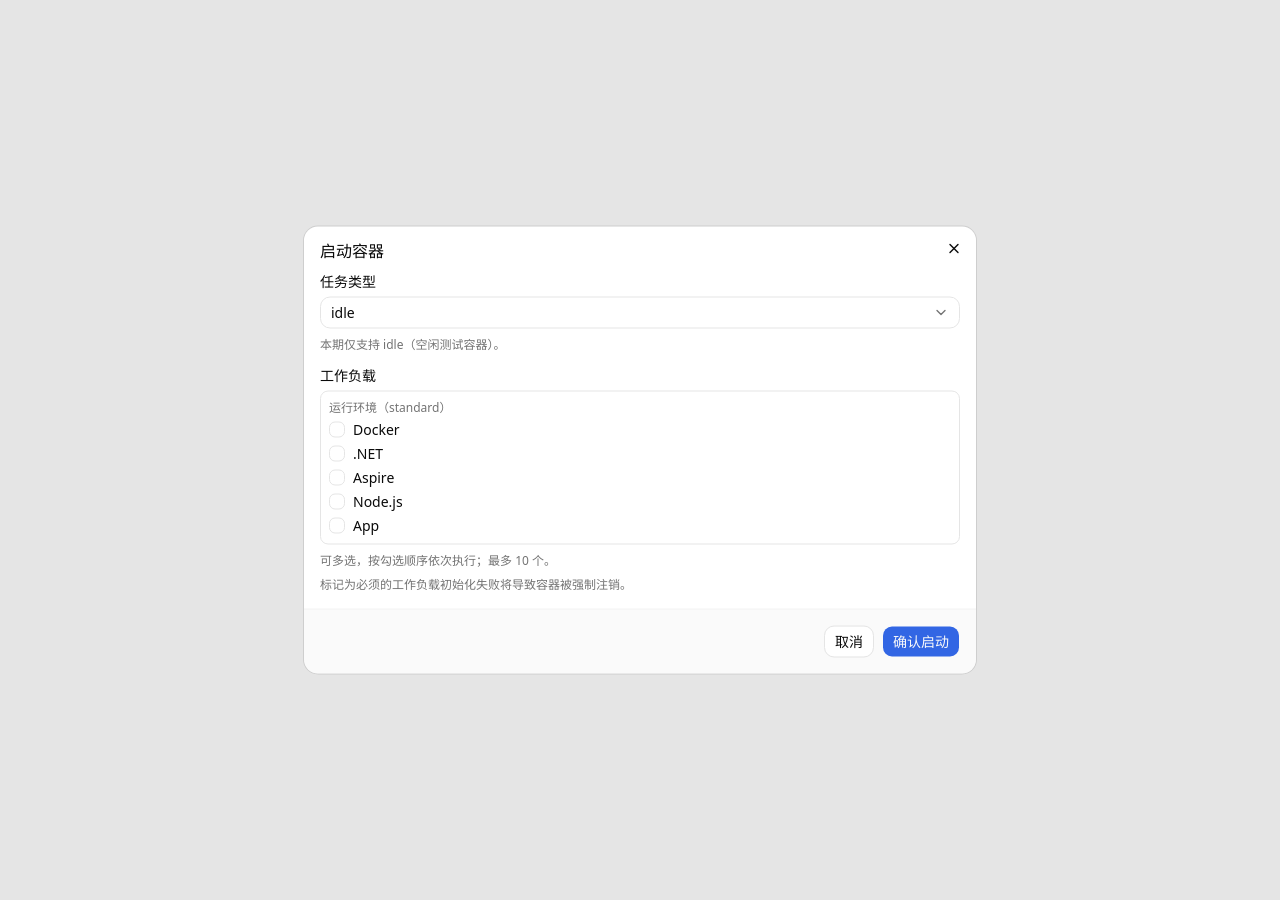
Test: StartContainerDialog (T-FP5/T-FP6/T-FP7) › T-FP5: shows a "no params" hint for a workload without params
Click the checkbox named "Docker": (337, 430) [329,422,345,438]
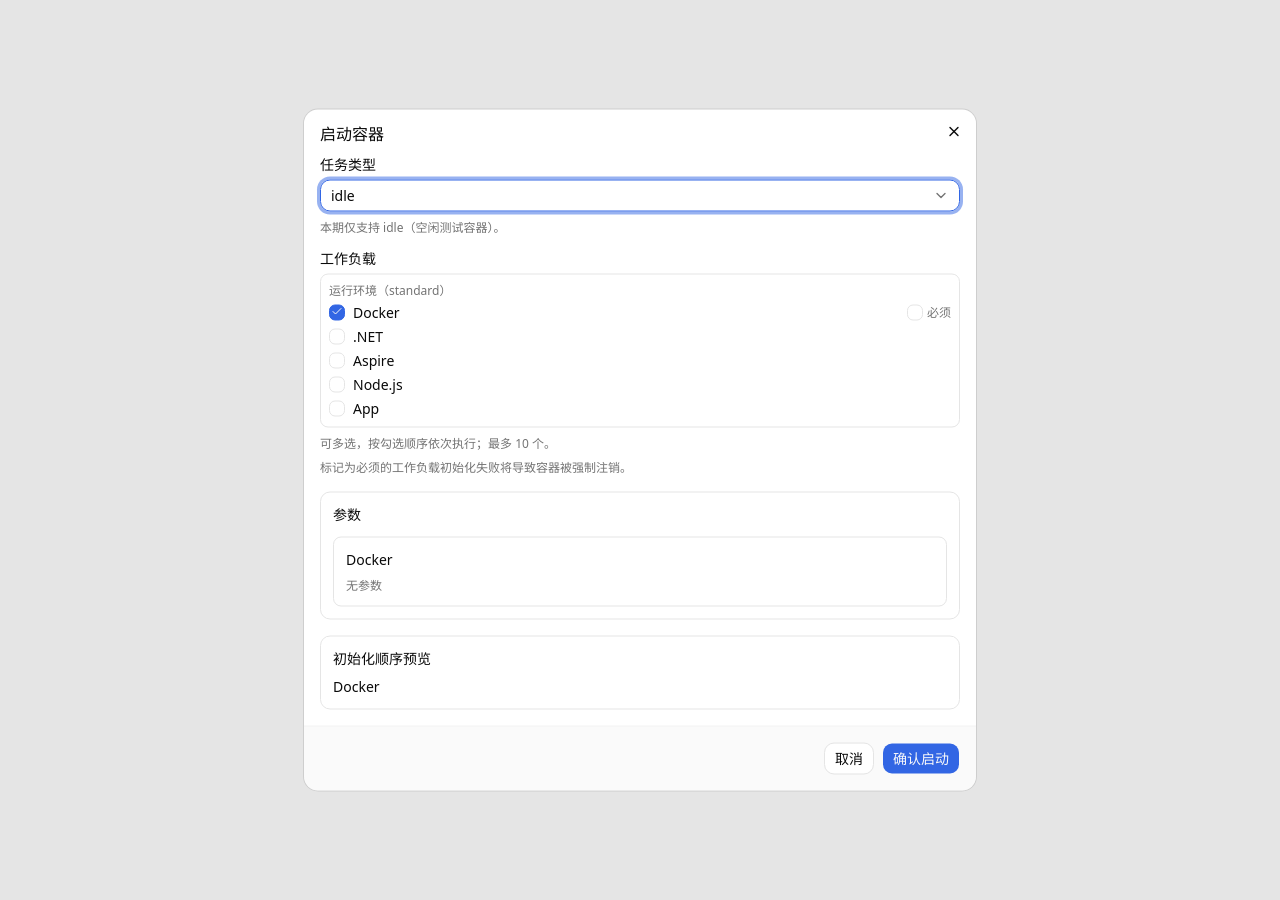
Now the text "无参数" is shown, box [346,576,382,594]
